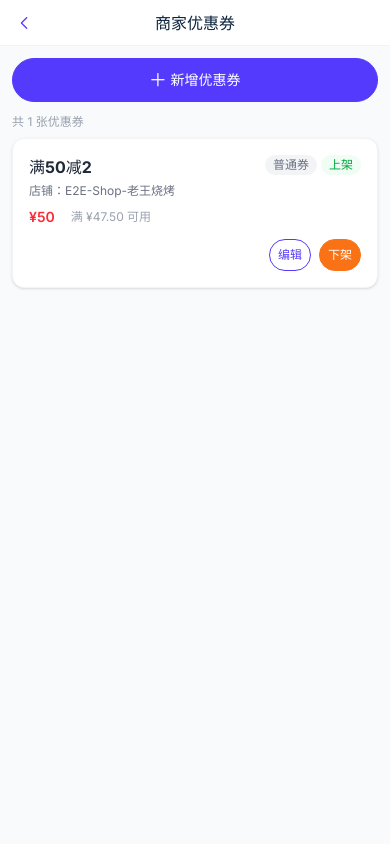
Scenario: Merchant/VoucherList.vue — 新建秒杀券 › 切换到秒杀券后出现 stock/begin/end 字段
What coordinates should you click on to do the following:
click the button with test id "voucher-create"
I would click on:
 (195, 80)
Its box is [12,58,378,102].
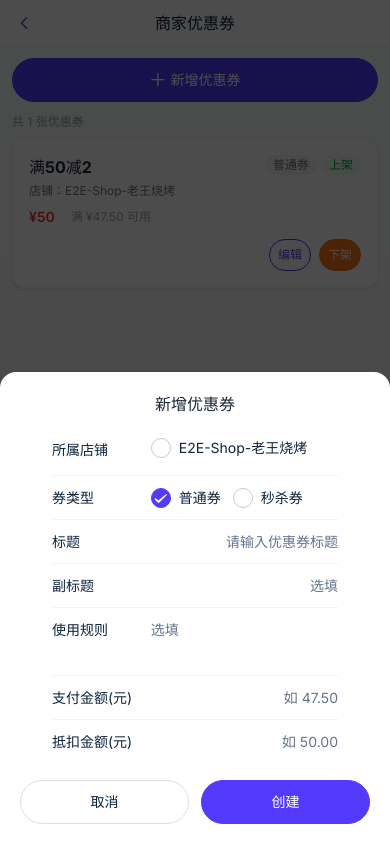
What coordinates should you click on to do the following:
click the radio button with test id "type-option" showing "秒杀券"
I would click on:
 (268, 498)
Its box is [233,488,303,508].
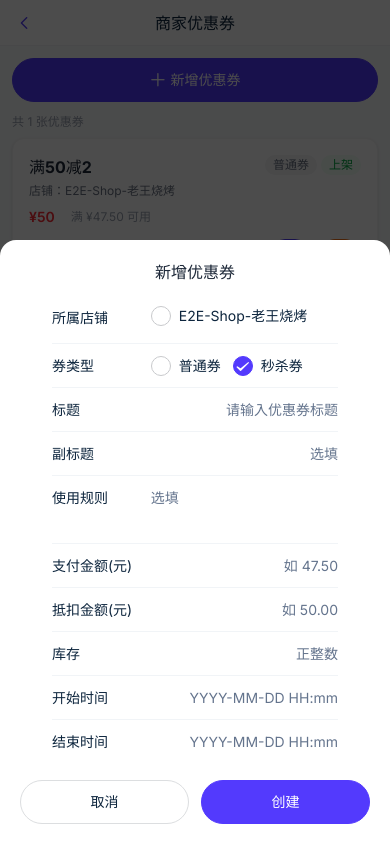
Expected: the element with test id "field-stock" is shown, [36,632,354,676]
Expected: the element with test id "field-beginTime" is shown, [36,676,354,720]
Expected: the element with test id "field-endTime" is shown, [36,720,354,764]
